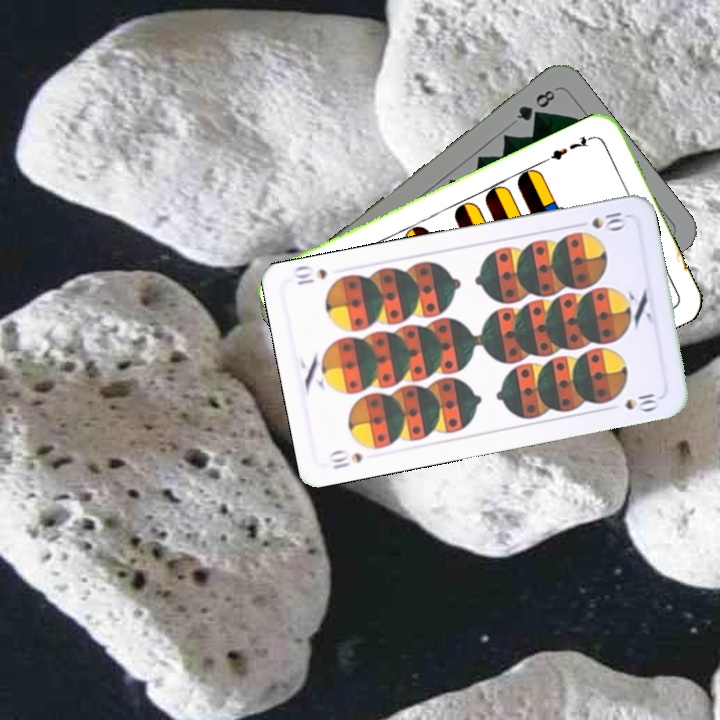E7: (542, 131, 598, 164)
G8: (512, 85, 558, 124)
S10: (325, 446, 366, 472), (588, 207, 628, 233)
